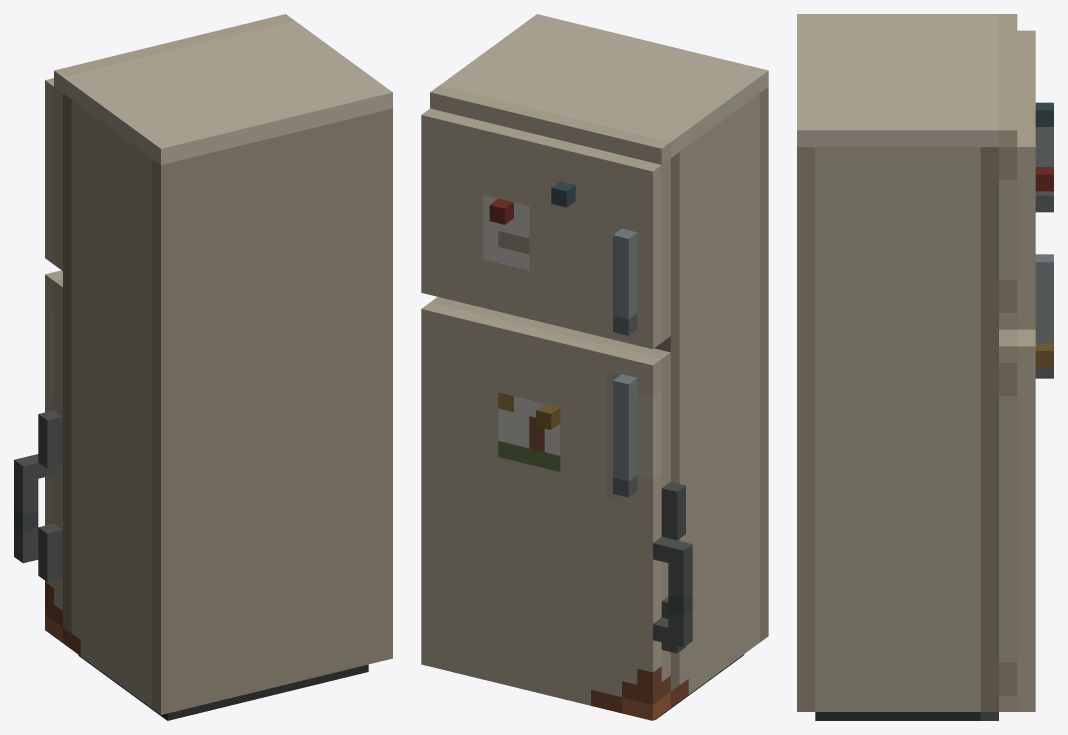
Rendered from Claude_refrigerator.glb.
The picture shows the model from 3 angles, left to right: view 1: azimuth 30°, elevation 25°; view 2: azimuth 150°, elevation 25°; view 3: azimuth 270°, elevation 25°; orthographic projection. The views are drawn at different scales.
Parts seen in each view (by area): view 1: Claude_refrigerator; view 2: Claude_refrigerator; view 3: Claude_refrigerator.
Part boxes in pixels (x1,y1,x2,y2): Claude_refrigerator: (14, 14, 392, 720); Claude_refrigerator: (421, 14, 768, 720); Claude_refrigerator: (797, 14, 1053, 720).
Size of the model in its own units: 0.85 by 1.8 by 0.7.
